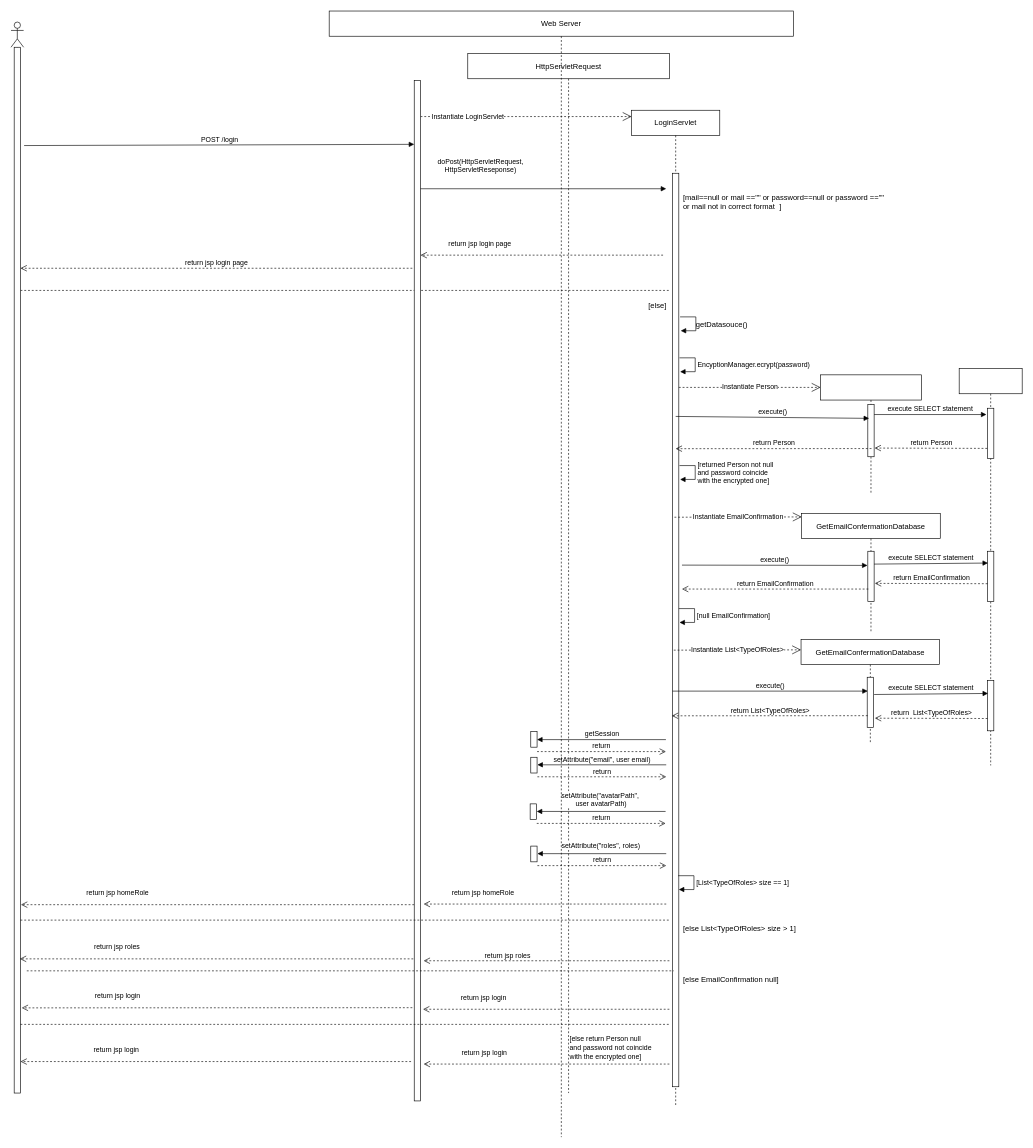
Image size: 1033x1148. Some labels were removed from this diagram. The shapes that lost their labels are listed below. From the top down, each one's centre as x and y in pixels, then its label:
[870,434]: GetUserByEmailDatabase
[990,566]: Database Server
